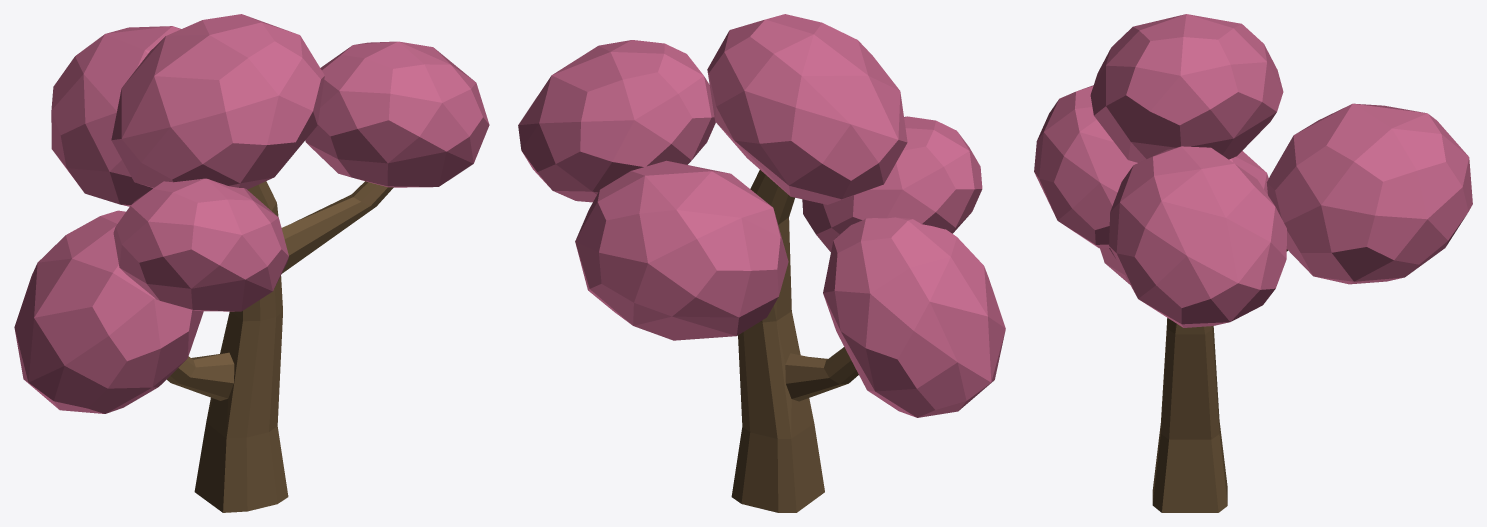
Rendered from Tree_7.fbx.
The picture shows the model from 3 angles, left to right: view 1: azimuth 30°, elevation 25°; view 2: azimuth 150°, elevation 25°; view 3: azimuth 270°, elevation 25°; orthographic projection.
Parts seen in each view (by area): view 1: Tree_7; view 2: Tree_7; view 3: Tree_7.
Part boxes in pixels (left/top/right/bottom): Tree_7: left=14, top=14, right=489, bottom=512; Tree_7: left=518, top=14, right=1005, bottom=512; Tree_7: left=1034, top=14, right=1472, bottom=512.
Bounding box in the file's own units: 170 × 167 × 142.
